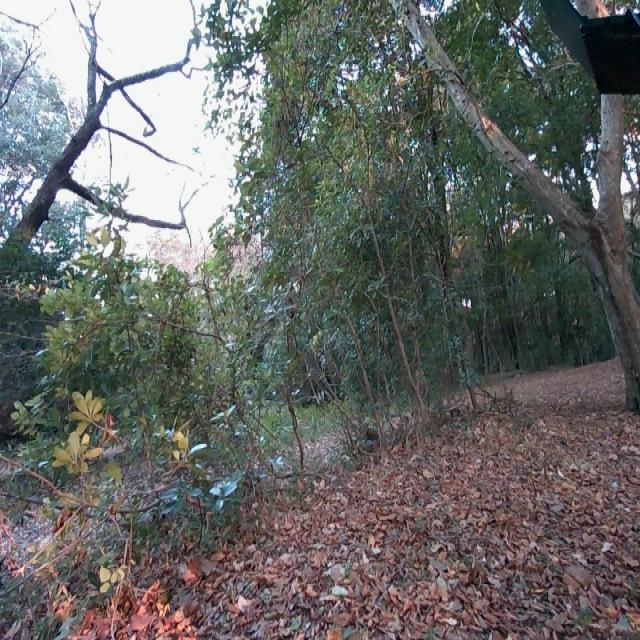bush: (0, 255, 230, 604), (323, 76, 462, 446), (224, 233, 313, 480)
tree: (404, 0, 637, 416), (0, 0, 195, 285)
